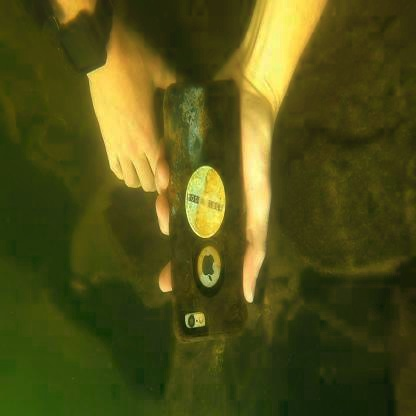cellphone: (162, 78, 250, 343)
electronics: (54, 0, 115, 81)
